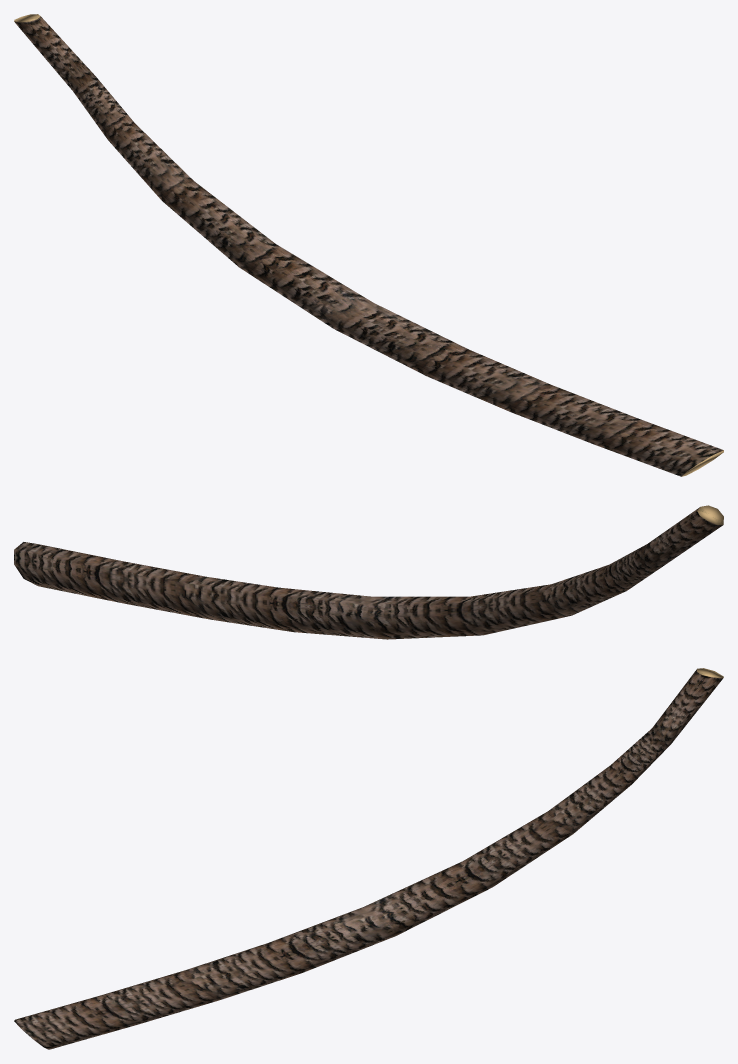
The model's file is Palm4Mesh33Shape.dae.
The picture shows the model from 3 angles, top to bottom: view 1: azimuth 30°, elevation 25°; view 2: azimuth 210°, elevation 25°; view 3: azimuth 270°, elevation 25°; orthographic projection. The views are drawn at different scales.
Parts seen in each view (by area): view 1: Palm4Mesh33; view 2: Palm4Mesh33; view 3: Palm4Mesh33.
Boxes of the visible parts, x1,y1,x2,y2 form: Palm4Mesh33: (14,14,723,476); Palm4Mesh33: (14,505,723,639); Palm4Mesh33: (14,668,723,1049).
Bounding box in the file's own units: 28.15 × 21.31 × 56.4.
